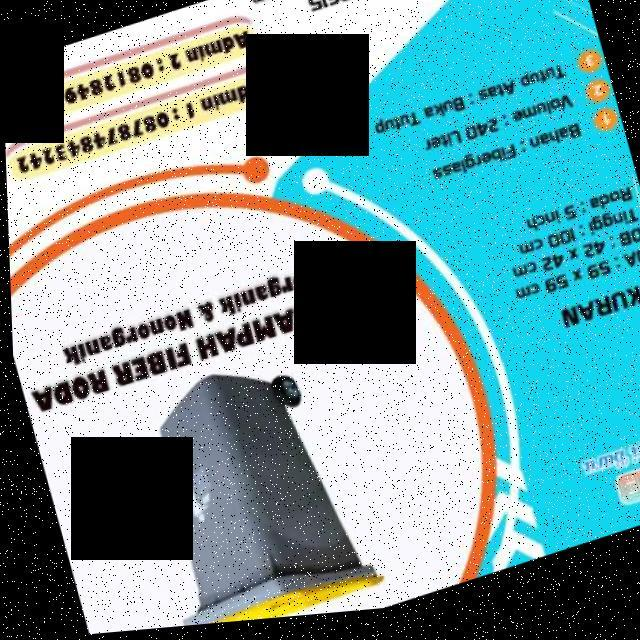bin: (97, 327, 386, 634)
